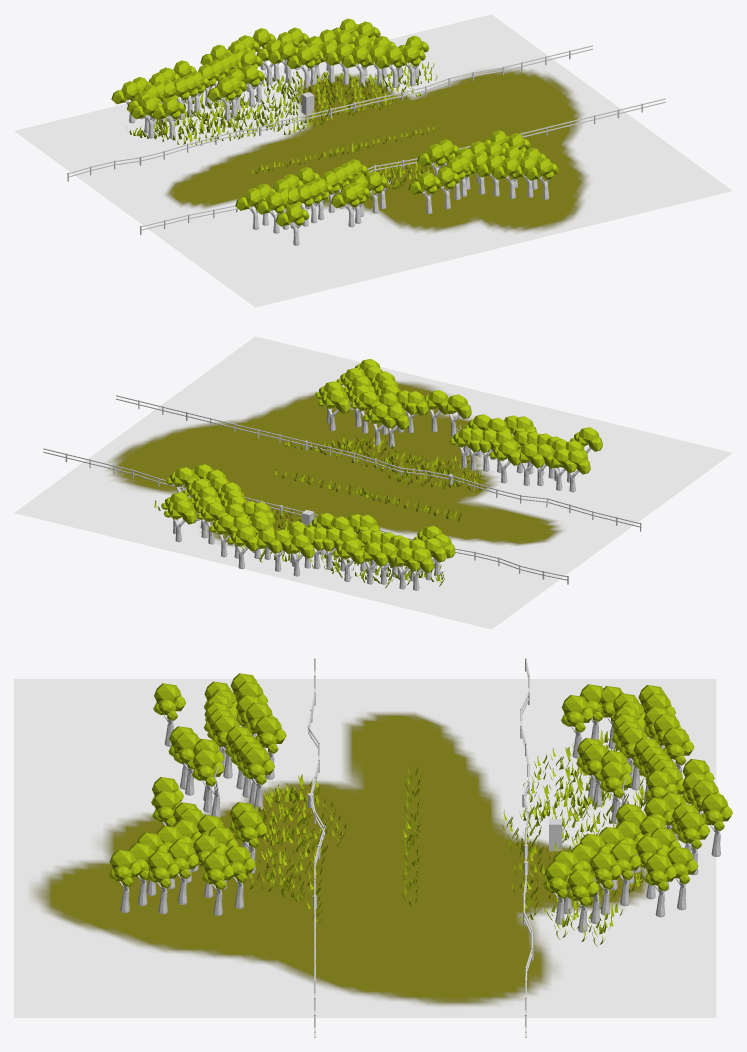
File: Levev1.fbx
3 renders of one model, top to bottom at view 1: azimuth 30°, elevation 25°; view 2: azimuth 150°, elevation 25°; view 3: azimuth 270°, elevation 25°, orthographic. The views are drawn at different scales.
Visible parts, largest first — view 1: land, Icosphere.047, grass2.001, Plane.003, fence; view 2: land, Icosphere.047, Plane.003, grass2.001, fence; view 3: land, Icosphere.047, grass2.001, Plane.003, fence.
Part boxes in pixels (<box>): land: <box>14,14,732,307</box>; Icosphere.047: <box>111,18,558,226</box>; grass2.001: <box>126,61,470,201</box>; Plane.003: <box>125,51,549,245</box>; fence: <box>67,45,665,234</box>; land: <box>14,336,732,629</box>; Icosphere.047: <box>161,359,602,572</box>; Plane.003: <box>170,384,591,590</box>; grass2.001: <box>154,434,485,587</box>; fence: <box>43,395,641,584</box>; land: <box>14,679,716,1017</box>; Icosphere.047: <box>109,673,732,906</box>; grass2.001: <box>246,730,684,946</box>; Plane.003: <box>119,714,720,932</box>; fence: <box>307,658,533,1037</box>.
Bounding box in the file's own units: 6600 × 525 × 5376.
